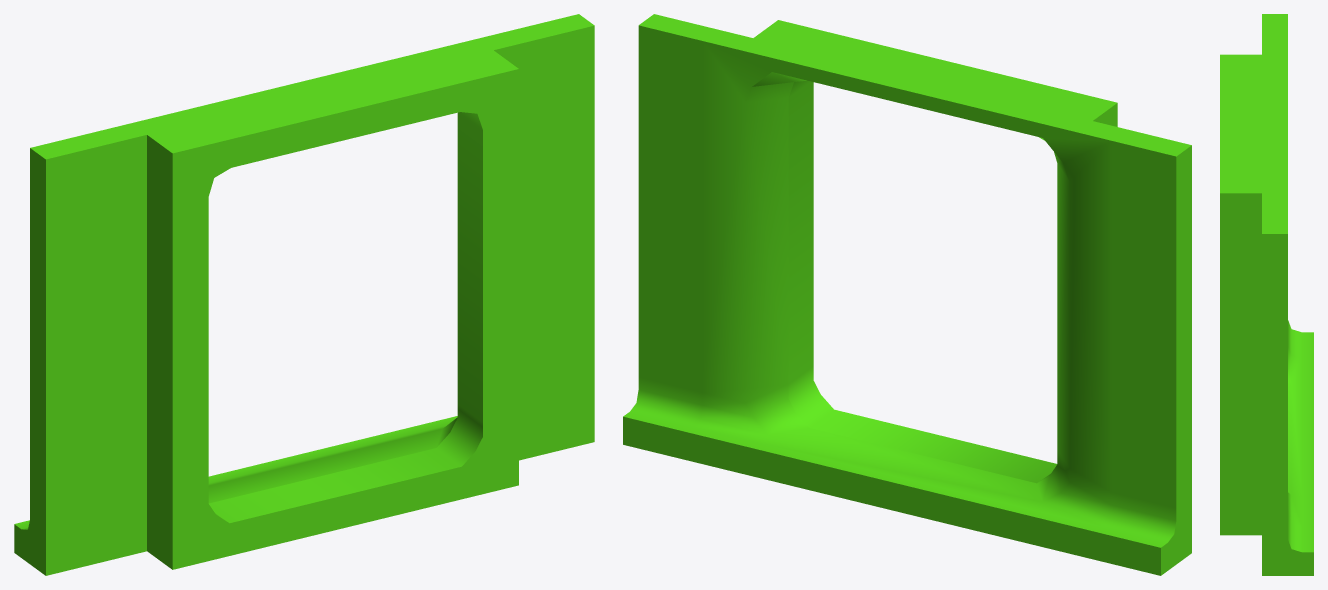
File: SM_Doorway-Elevator_E.fbx
3 renders of one model, left to right at view 1: azimuth 30°, elevation 25°; view 2: azimuth 150°, elevation 25°; view 3: azimuth 270°, elevation 25°, orthographic. The views are drawn at different scales.
Parts seen in each view (by area): view 1: SM_Doorway-Elevator_E; view 2: SM_Doorway-Elevator_E; view 3: SM_Doorway-Elevator_E.
Part boxes in pixels (x1=…): SM_Doorway-Elevator_E: x1=14, y1=14, x2=594, y2=575; SM_Doorway-Elevator_E: x1=623, y1=14, x2=1191, y2=575; SM_Doorway-Elevator_E: x1=1220, y1=14, x2=1313, y2=575.
Bounding box in the file's own units: 400 × 72.17 × 290.
